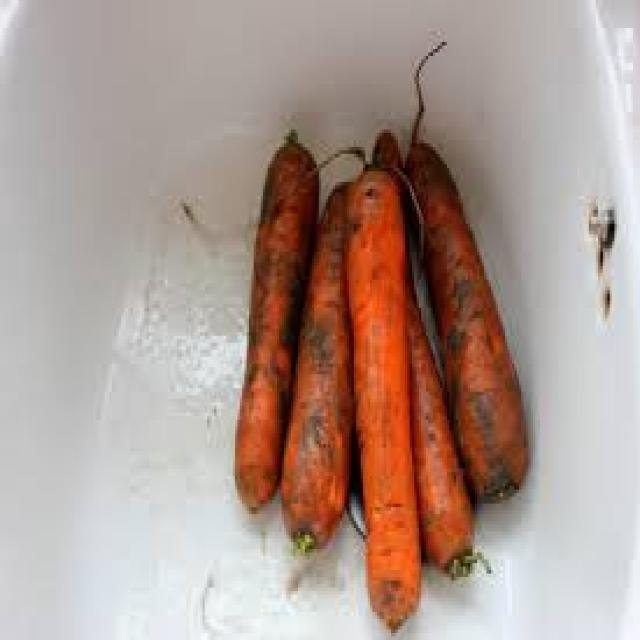Stale_Carrot: (403, 114, 535, 518), (348, 135, 422, 620), (275, 162, 372, 502), (238, 127, 308, 492)
